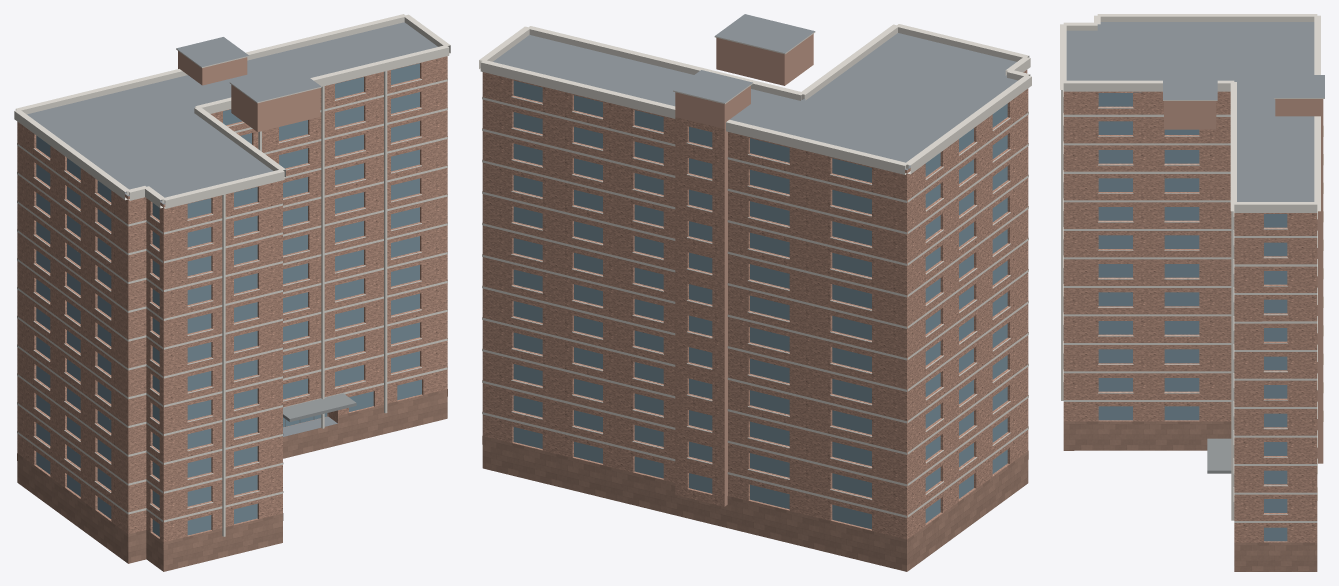
3 views of the same model, side by side, from view 1: azimuth 30°, elevation 25°; view 2: azimuth 150°, elevation 25°; view 3: azimuth 270°, elevation 25° (orthographic). The views are drawn at different scales.
Parts seen in each view (by area): view 1: naraeGwanW6__wall, naraeGwanW6__glass, naraeGwanW6__trim, naraeGwanW6__roof, naraeGwanW6__base, naraeGwanW6__wall2, naraeGwanW6__canopy; view 2: naraeGwanW6__wall, naraeGwanW6__glass, naraeGwanW6__trim, naraeGwanW6__roof, naraeGwanW6__base, naraeGwanW6__wall2; view 3: naraeGwanW6__wall, naraeGwanW6__roof, naraeGwanW6__trim, naraeGwanW6__glass, naraeGwanW6__base, naraeGwanW6__wall2, naraeGwanW6__canopy.
Part boxes in pixels (<box>): naraeGwanW6__wall: <box>17,56,447,549</box>; naraeGwanW6__glass: <box>36,63,421,536</box>; naraeGwanW6__trim: <box>14,14,450,536</box>; naraeGwanW6__roof: <box>27,22,437,436</box>; naraeGwanW6__base: <box>17,389,447,571</box>; naraeGwanW6__wall2: <box>178,51,320,131</box>; naraeGwanW6__canopy: <box>283,393,356,421</box>; naraeGwanW6__wall: <box>482,70,1028,547</box>; naraeGwanW6__glass: <box>513,80,1007,529</box>; naraeGwanW6__trim: <box>479,24,1031,517</box>; naraeGwanW6__roof: <box>493,14,1017,169</box>; naraeGwanW6__base: <box>482,436,1028,571</box>; naraeGwanW6__wall2: <box>675,34,813,506</box>; naraeGwanW6__wall: <box>1063,91,1317,542</box>; naraeGwanW6__roof: <box>1066,22,1324,201</box>; naraeGwanW6__trim: <box>1060,14,1324,522</box>; naraeGwanW6__glass: <box>1098,92,1287,541</box>; naraeGwanW6__base: <box>1063,421,1317,571</box>; naraeGwanW6__wall2: <box>1164,99,1323,463</box>; naraeGwanW6__canopy: <box>1207,438,1231,473</box>.
Size of the model in its own units: 47.33 by 45.6 by 27.79.
9 materials, 2 textured.
